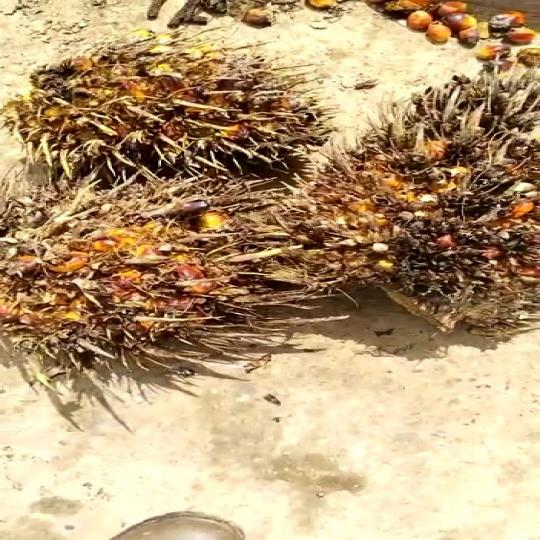terlalu masak: (0, 172, 357, 386), (303, 64, 540, 342), (0, 38, 330, 182)
